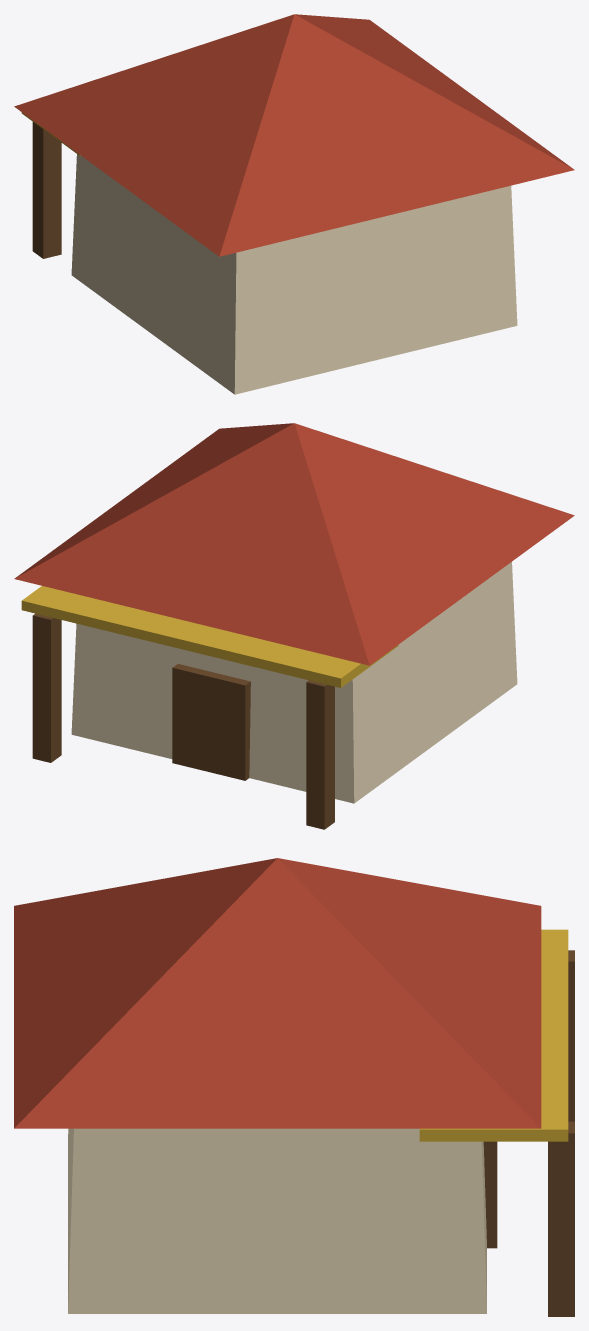
The model's file is market.glb.
3 views of the same model, one above another, from view 1: azimuth 30°, elevation 25°; view 2: azimuth 150°, elevation 25°; view 3: azimuth 270°, elevation 25° (orthographic). The views are drawn at different scales.
Parts seen in each view (by area): view 1: body; view 2: body; view 3: body.
Part boxes in pixels (x1,y1,x2,y2): body: (14, 14, 574, 394); body: (14, 423, 574, 829); body: (14, 858, 574, 1316).
Bounding box in the file's own units: 0.78 × 0.6 × 0.83.
